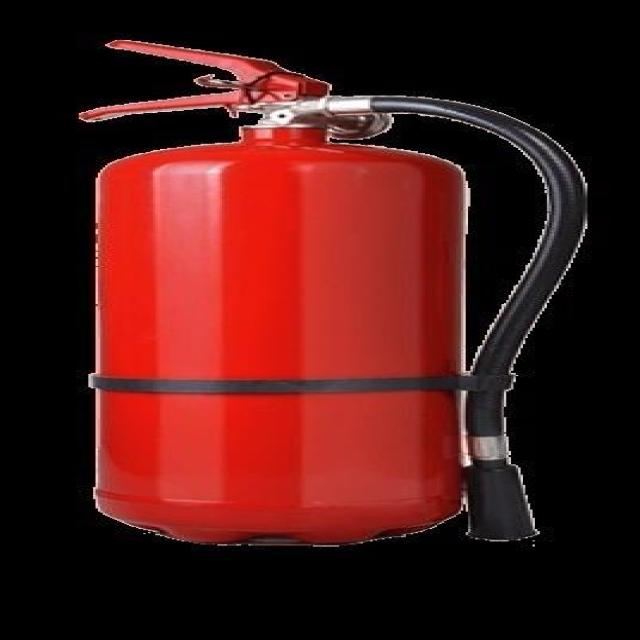fire_extinguisher: (48, 32, 599, 551)
